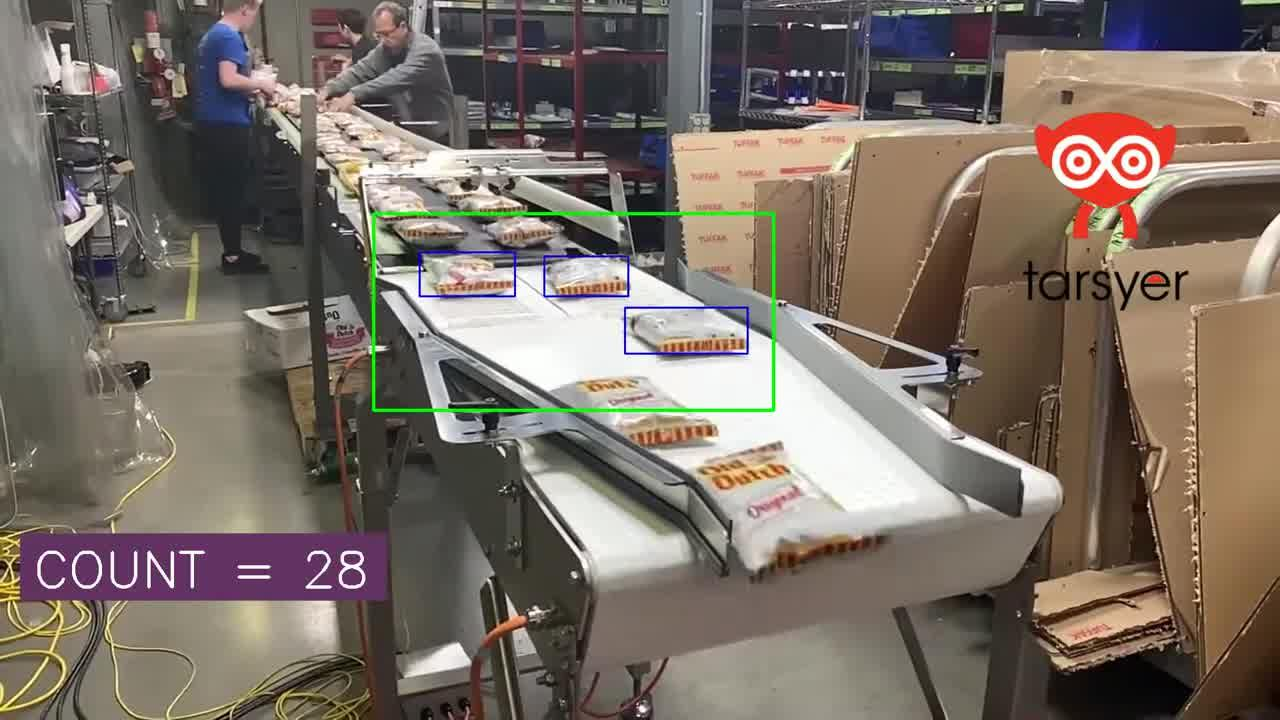Snack: (694, 442, 879, 578), (556, 377, 717, 446), (629, 309, 746, 353), (422, 255, 513, 295), (546, 257, 627, 295), (390, 218, 465, 247), (485, 218, 557, 247), (365, 185, 425, 211), (457, 192, 525, 212), (438, 182, 493, 205), (354, 131, 391, 151), (324, 151, 369, 166), (384, 147, 427, 162), (378, 138, 407, 158), (320, 112, 356, 127)
